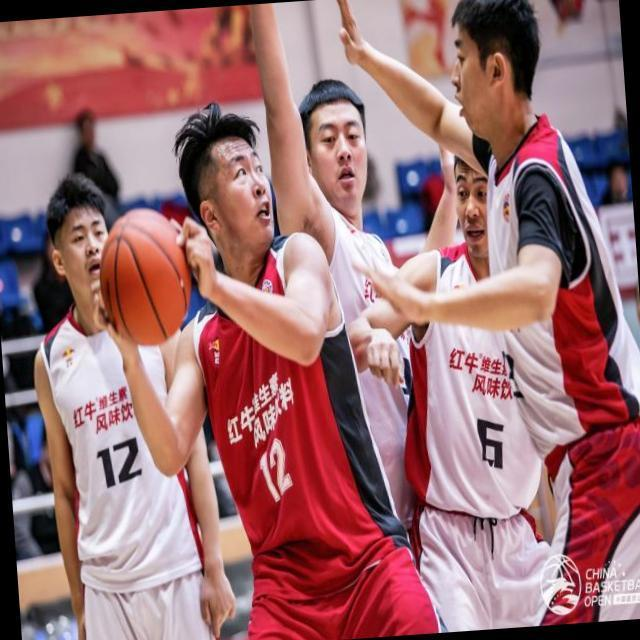ball: (94, 203, 196, 349)
